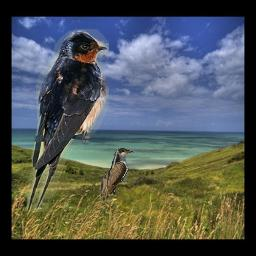Cuckoo: (100, 148, 142, 201)
Swallow: (23, 29, 109, 212)
